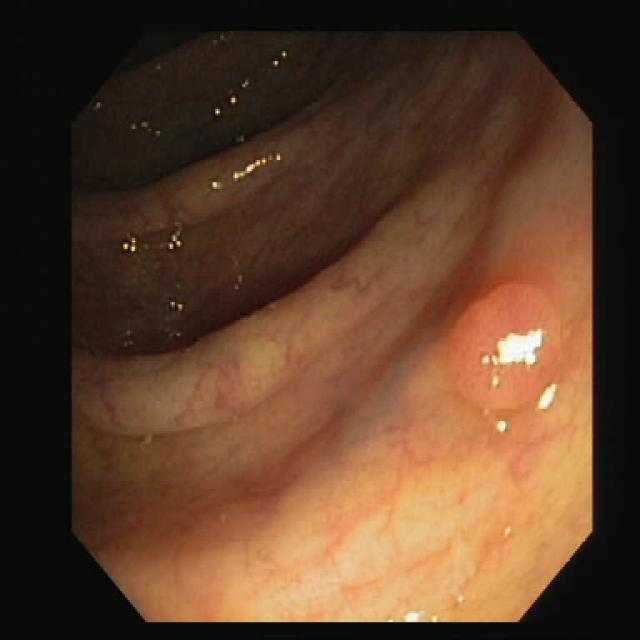tumor: (450, 282, 558, 407)
